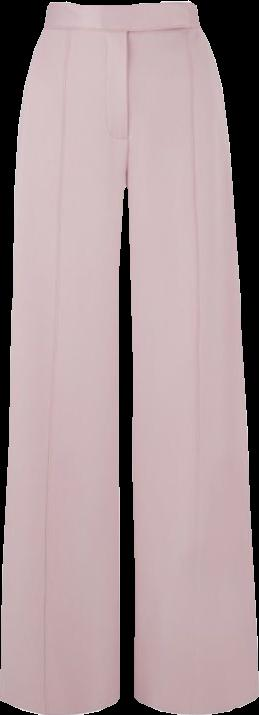Hemline: (132, 691, 258, 714), (0, 693, 122, 714)
Pantleg: (125, 2, 258, 712), (0, 2, 129, 714)
Waistline: (39, 22, 202, 41), (49, 0, 189, 11)
